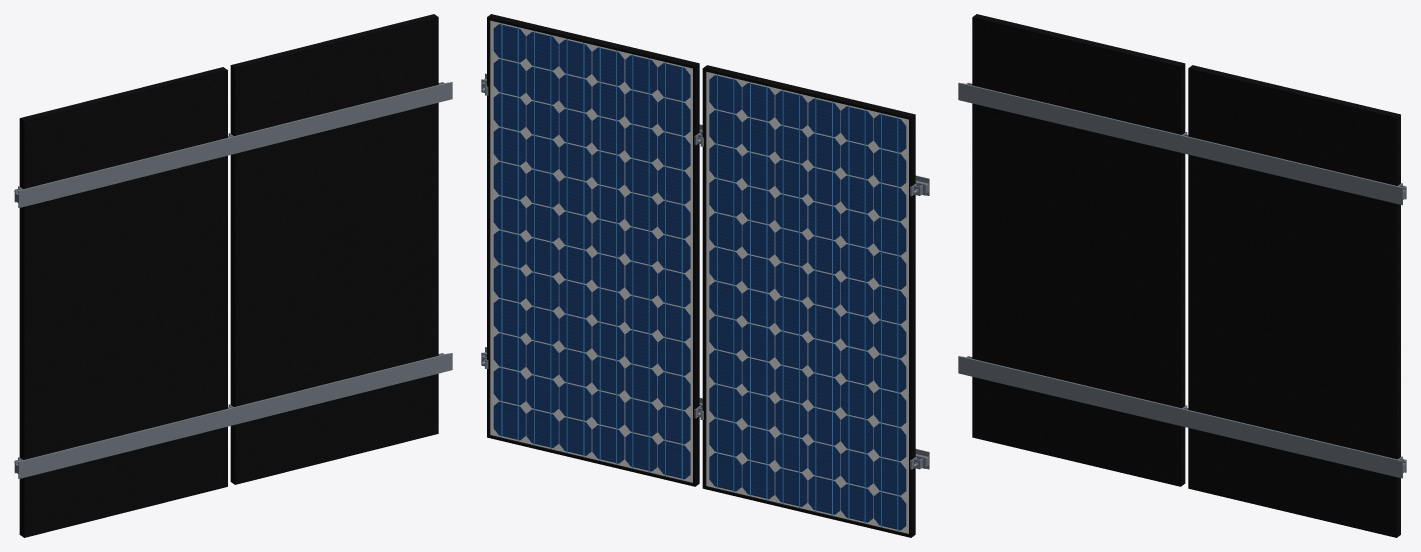
File: Crystal1.obj
3 views of the same model, side by side, from view 1: azimuth 30°, elevation 25°; view 2: azimuth 150°, elevation 25°; view 3: azimuth 330°, elevation 25° (orthographic).
Visible parts, largest first — view 1: panel, Default; view 2: small_032panels, panel, wire, Default; view 3: panel, Default.
Boxes of the visible parts, bbox=[...] form: panel: bbox=[19, 14, 438, 537]; Default: bbox=[14, 82, 452, 478]; small_032panels: bbox=[493, 24, 906, 530]; panel: bbox=[487, 14, 915, 537]; wire: bbox=[501, 23, 898, 531]; Default: bbox=[481, 73, 929, 469]; panel: bbox=[972, 14, 1400, 537]; Default: bbox=[958, 82, 1406, 478].
Size of the model in its own units: 167 by 152 by 8.47.
2 materials, 2 textured.
